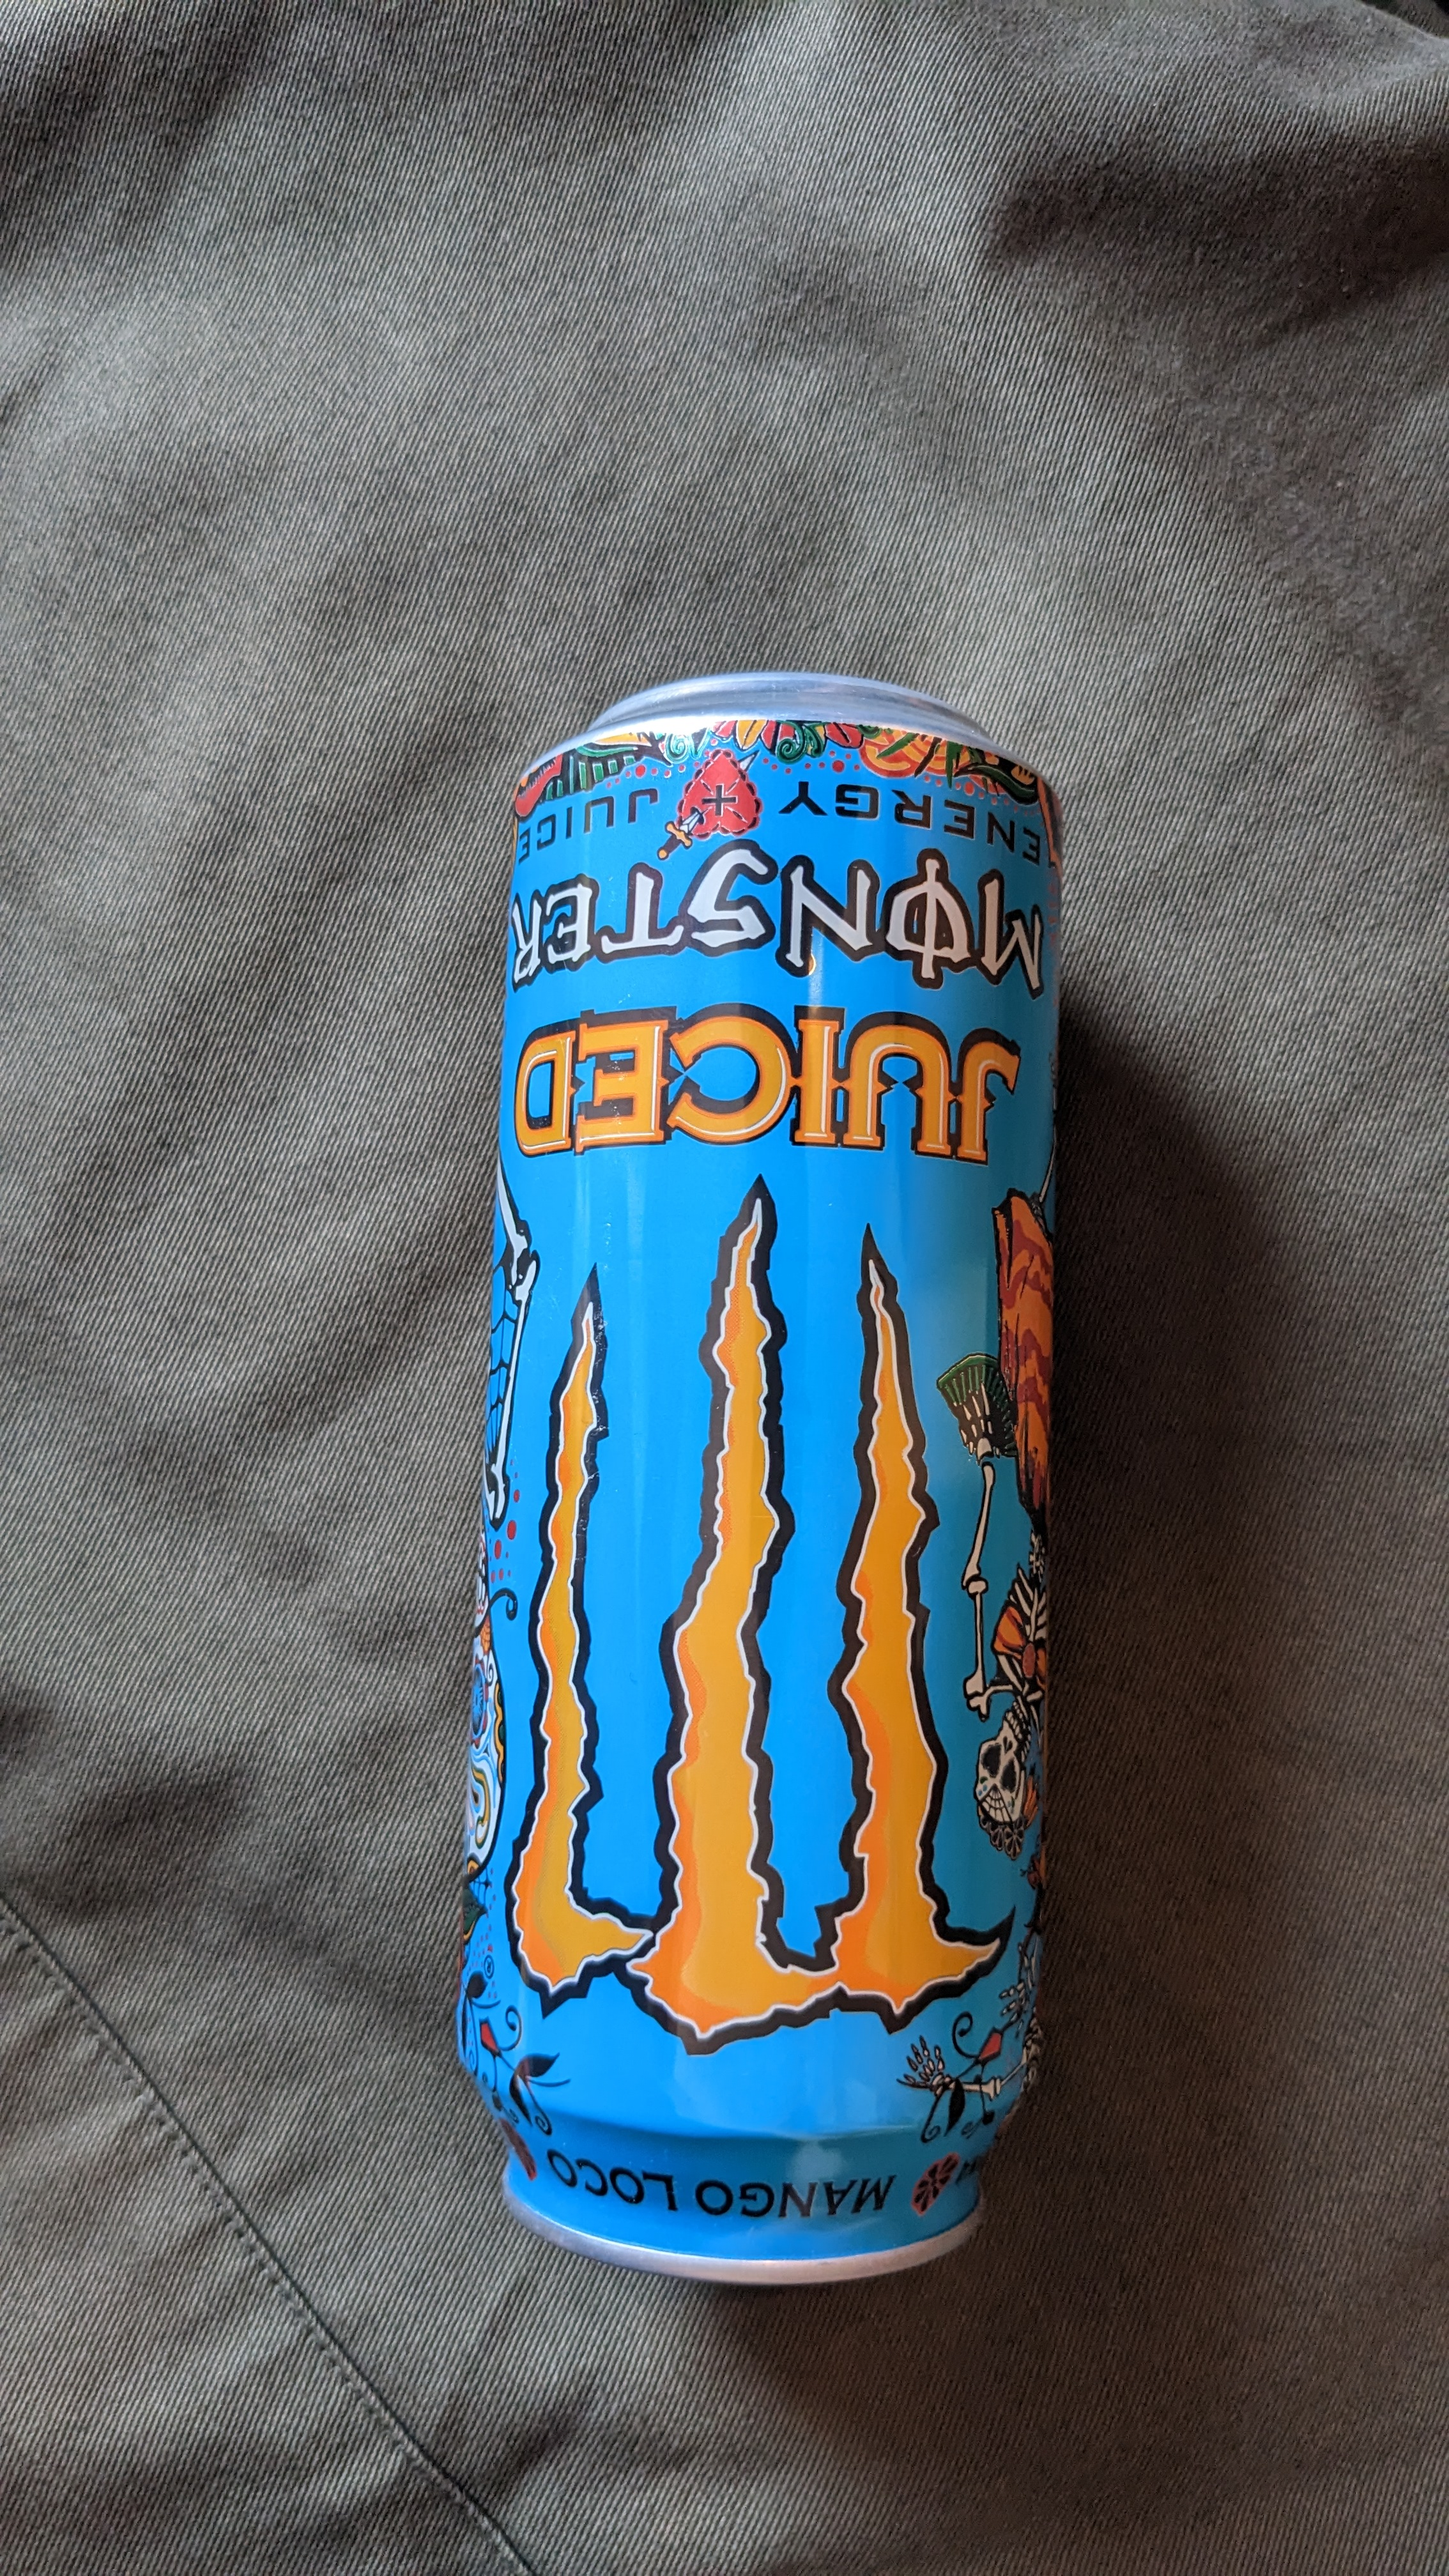monster: (465, 640, 1127, 2291)
